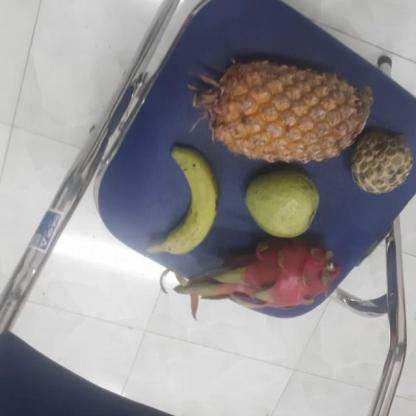annona: (345, 130, 413, 194)
banana: (149, 150, 219, 256)
guava: (242, 169, 323, 240)
pineapple: (208, 62, 369, 162)
pitaya: (200, 233, 340, 314)
